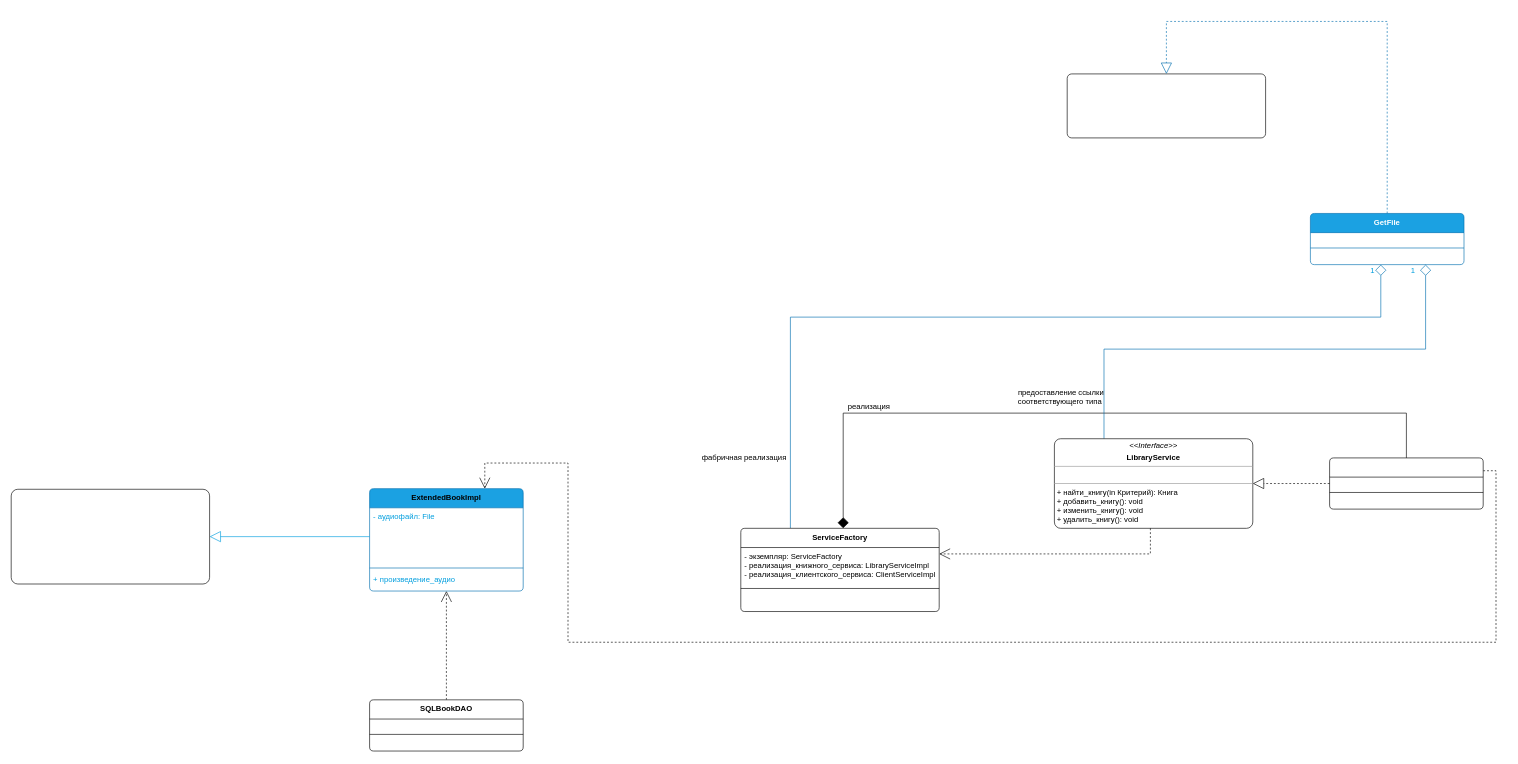
Some shapes in this 1518 by 764 pixel diagram are drawn without their labels. The shapes that lost their labels are listed below. From the top down, each one's centre as x and y in pixels, then its label:
[1166,105]: <<Interface>> Command + обработка(): String
[1406,483]: LibraryServiceImpl
[110,536]: <<Abstract>> Book + описание: Описание книги + файл: File - идентификатор
